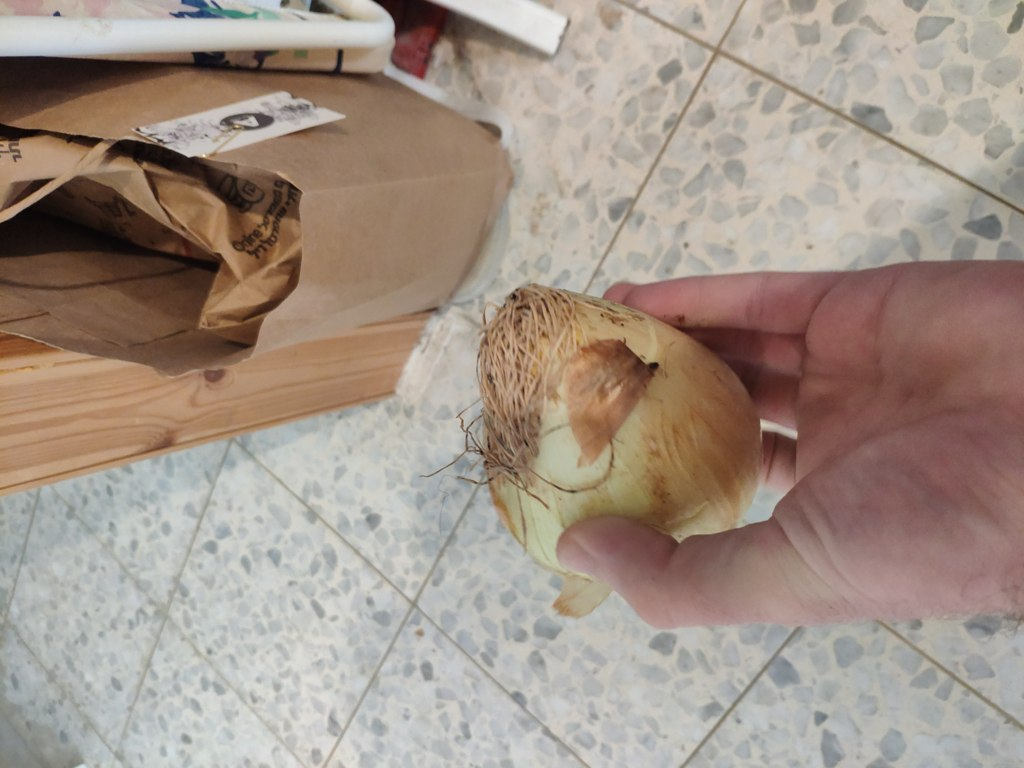Onion: (450, 287, 774, 594)
